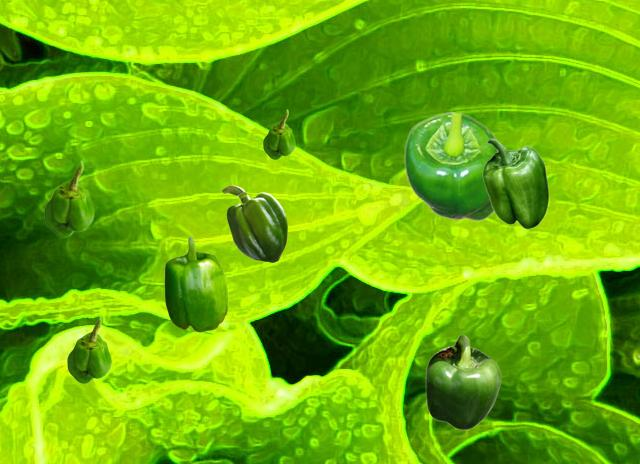bell_pepper: (403, 111, 499, 220), (425, 334, 500, 429), (164, 236, 227, 331), (482, 138, 548, 228), (221, 185, 286, 261), (44, 160, 93, 236), (67, 315, 110, 382), (263, 109, 294, 158)
